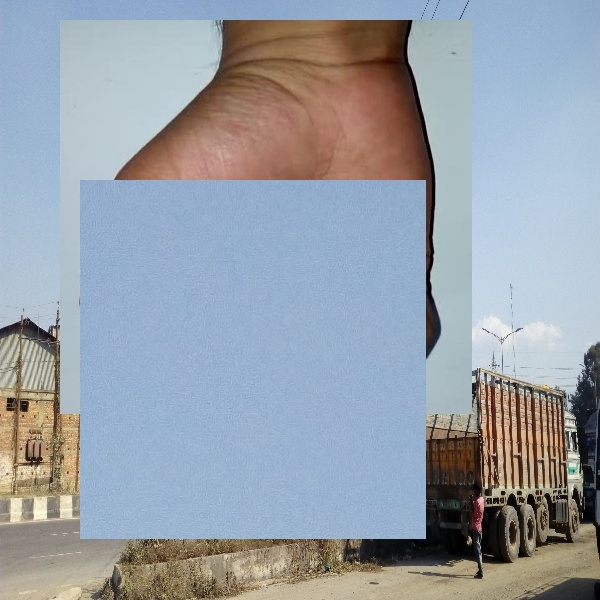A: (80, 180, 426, 539)
